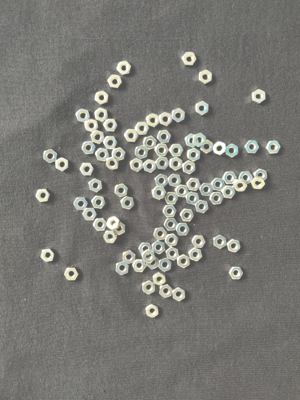nut: (182, 52, 198, 66), (116, 61, 132, 75), (252, 89, 266, 105), (199, 70, 213, 85), (196, 101, 210, 116), (95, 91, 109, 106), (124, 129, 139, 143), (76, 109, 91, 123), (82, 141, 97, 155), (103, 136, 118, 150), (95, 148, 110, 162), (193, 133, 207, 148), (185, 133, 199, 148), (135, 145, 149, 160), (44, 149, 58, 164), (211, 178, 226, 192), (107, 216, 121, 231), (229, 266, 244, 280), (116, 261, 130, 276), (159, 112, 173, 126), (94, 108, 108, 122), (85, 119, 99, 133), (91, 130, 105, 144), (112, 147, 126, 161), (158, 130, 172, 144), (182, 161, 196, 175), (130, 158, 144, 172), (195, 200, 209, 214), (89, 179, 103, 193), (92, 196, 106, 210), (93, 218, 107, 232), (154, 227, 168, 241), (41, 249, 55, 263), (152, 241, 166, 255), (166, 247, 180, 261), (142, 250, 156, 264), (108, 75, 123, 88), (147, 113, 160, 128), (135, 122, 150, 135), (103, 119, 118, 132), (106, 156, 119, 171), (266, 141, 281, 154), (245, 141, 260, 154), (214, 141, 227, 156), (154, 144, 169, 157), (169, 144, 184, 157), (233, 179, 248, 192), (209, 192, 224, 205), (152, 186, 167, 199), (164, 218, 179, 231), (36, 189, 51, 202), (74, 198, 89, 211), (83, 208, 98, 221), (64, 268, 79, 281), (214, 235, 227, 250), (132, 260, 147, 273), (160, 284, 173, 299), (173, 287, 186, 302), (146, 304, 159, 319), (226, 144, 239, 158), (201, 140, 214, 154), (144, 136, 157, 150), (188, 148, 201, 162), (170, 157, 183, 171), (156, 157, 170, 170), (144, 159, 157, 173), (80, 163, 94, 176), (56, 158, 69, 172), (254, 169, 268, 182), (223, 172, 237, 185), (222, 186, 236, 199), (200, 183, 214, 196), (187, 178, 201, 191), (169, 174, 182, 188), (155, 174, 168, 188), (175, 185, 189, 198), (186, 192, 200, 205), (180, 209, 194, 222), (115, 184, 128, 198), (121, 197, 135, 210), (228, 239, 241, 253), (189, 248, 203, 261), (178, 254, 191, 268), (165, 233, 178, 247), (159, 258, 172, 272), (139, 243, 153, 256), (146, 256, 159, 270), (123, 250, 136, 264), (153, 273, 167, 286), (143, 281, 156, 295), (173, 108, 185, 123), (251, 177, 266, 189), (239, 172, 253, 184), (165, 193, 179, 205), (163, 205, 177, 217), (176, 224, 190, 236), (104, 231, 118, 243), (192, 236, 206, 248), (114, 223, 125, 236)
